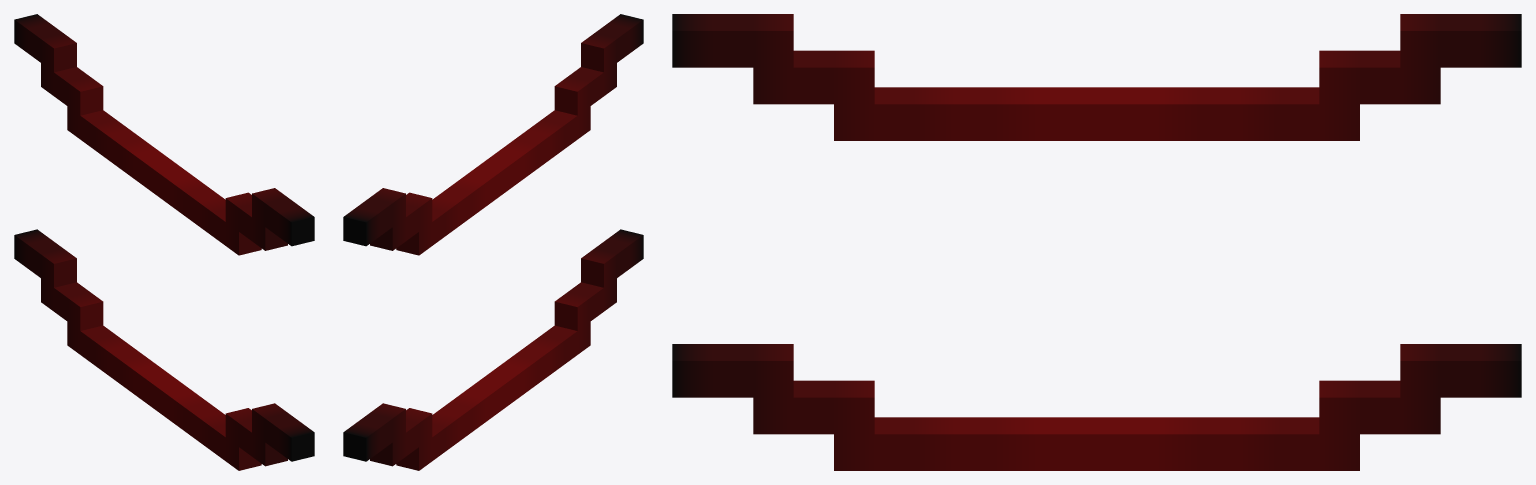
The model's file is ObpMD_Fence_Rope_Rope.gltf.
The picture shows the model from 3 angles, left to right: view 1: azimuth 30°, elevation 25°; view 2: azimuth 150°, elevation 25°; view 3: azimuth 270°, elevation 25°; orthographic projection. The views are drawn at different scales.
Visible parts, largest first — view 1: ObpMD_Fence_Rope_Rope; view 2: ObpMD_Fence_Rope_Rope; view 3: ObpMD_Fence_Rope_Rope.
Part boxes in pixels (<box>): ObpMD_Fence_Rope_Rope: <box>14,14,314,470</box>; ObpMD_Fence_Rope_Rope: <box>343,14,643,470</box>; ObpMD_Fence_Rope_Rope: <box>672,14,1521,470</box>.
Bounding box in the file's own units: 0.0625 × 0.75 × 1.31.
